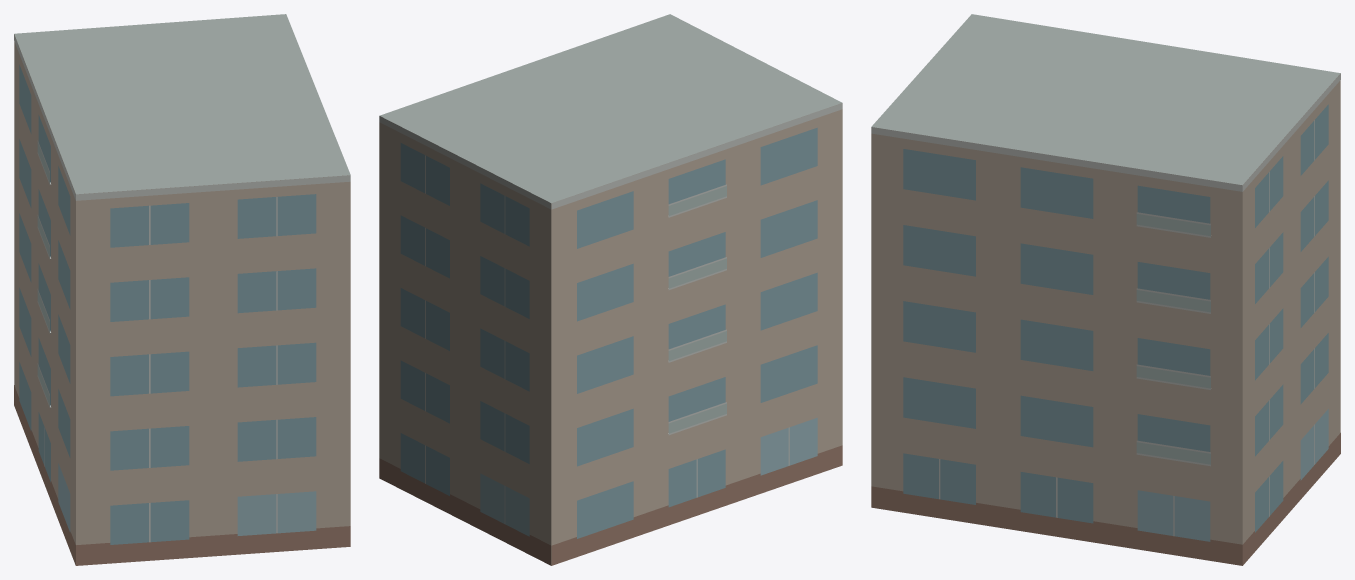
The model's file is survey-upis-32880037.glb.
3 renders of one model, left to right at view 1: azimuth 30°, elevation 25°; view 2: azimuth 150°, elevation 25°; view 3: azimuth 270°, elevation 25°, orthographic. The views are drawn at different scales.
Visible parts, largest first — view 1: survey-upis-32880037.tmp; view 2: survey-upis-32880037.tmp; view 3: survey-upis-32880037.tmp.
Boxes of the visible parts, x1,y1,x2,y2 form: survey-upis-32880037.tmp: (14, 14, 350, 565); survey-upis-32880037.tmp: (379, 14, 842, 565); survey-upis-32880037.tmp: (871, 14, 1340, 565).
Bounding box in the file's own units: 13.42 × 13.9 × 15.55.
